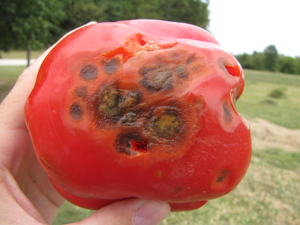anthracnose: (69, 37, 224, 163)
